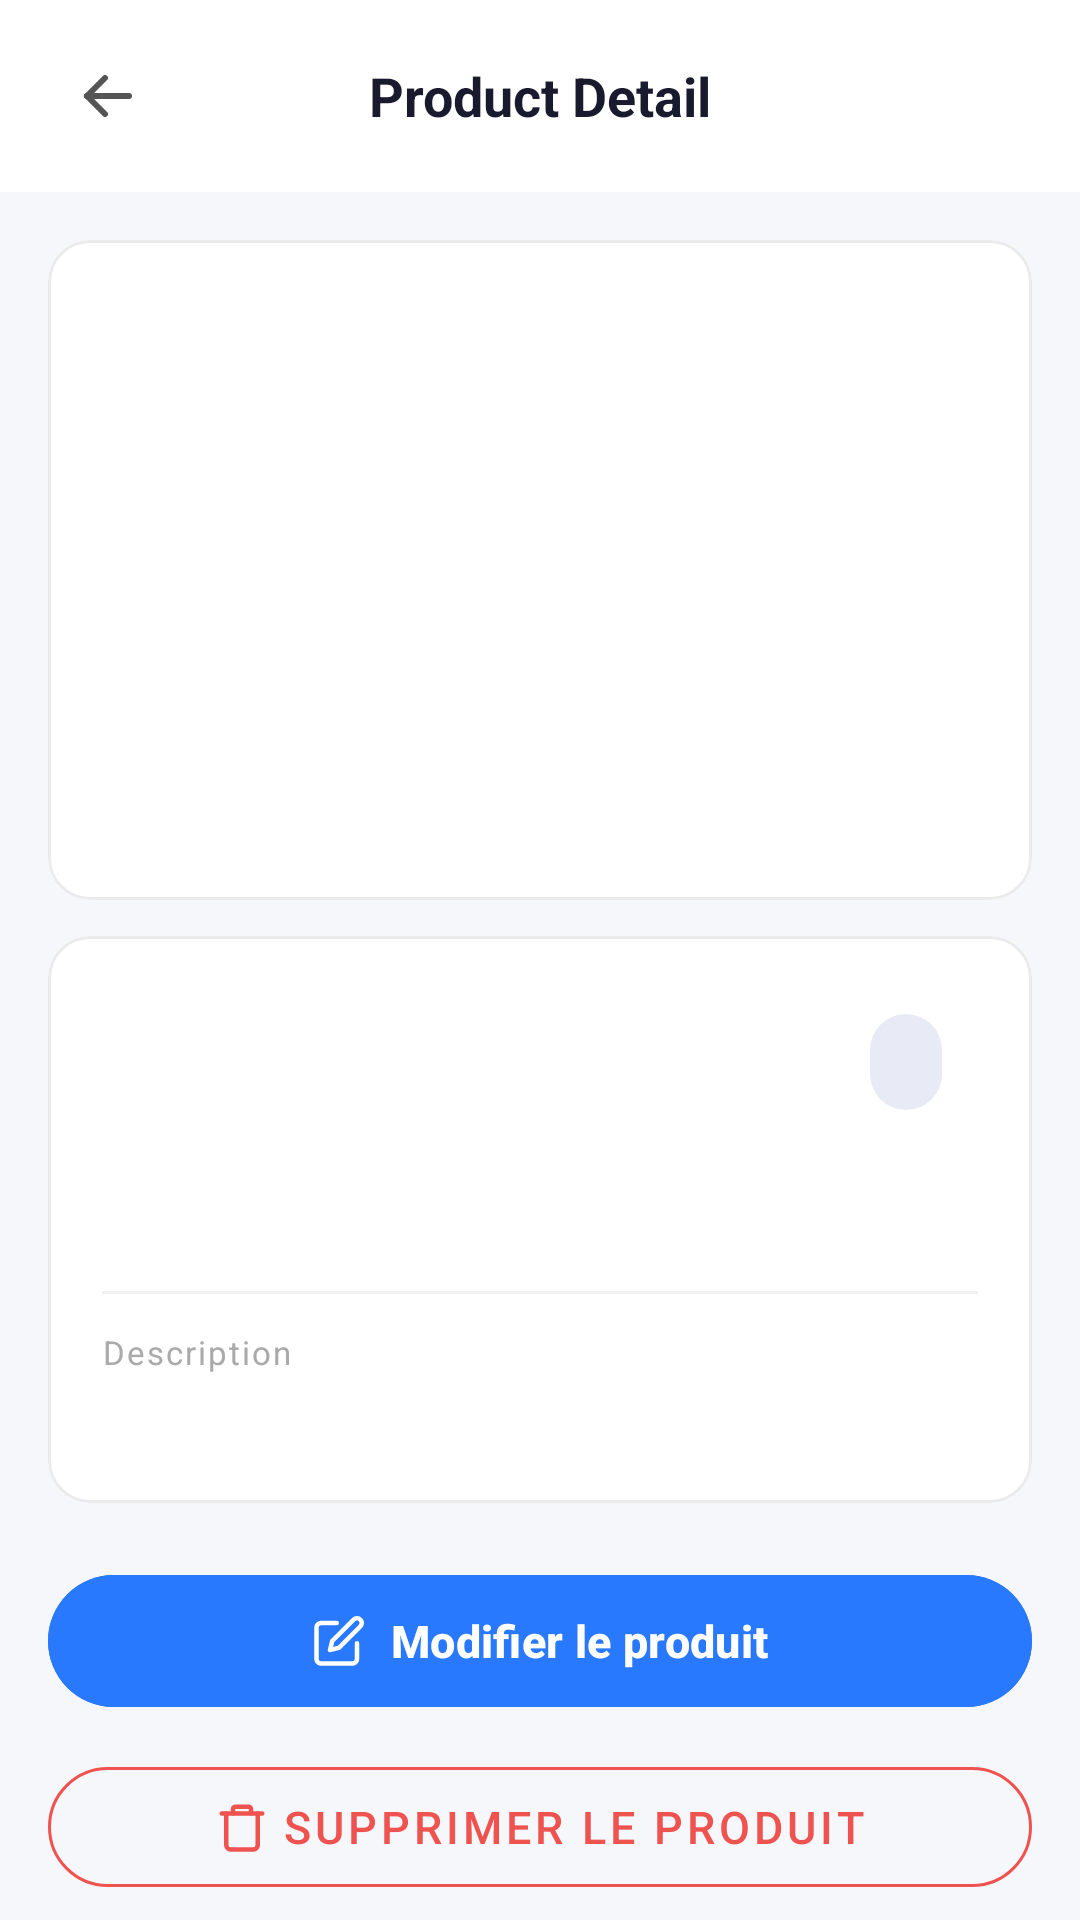

Locate icon controls on the screen. Image size 1080*1920, boxes as bbox=(x1, y1, x2, y2).
arrow back: bbox=(84, 75, 132, 117)
